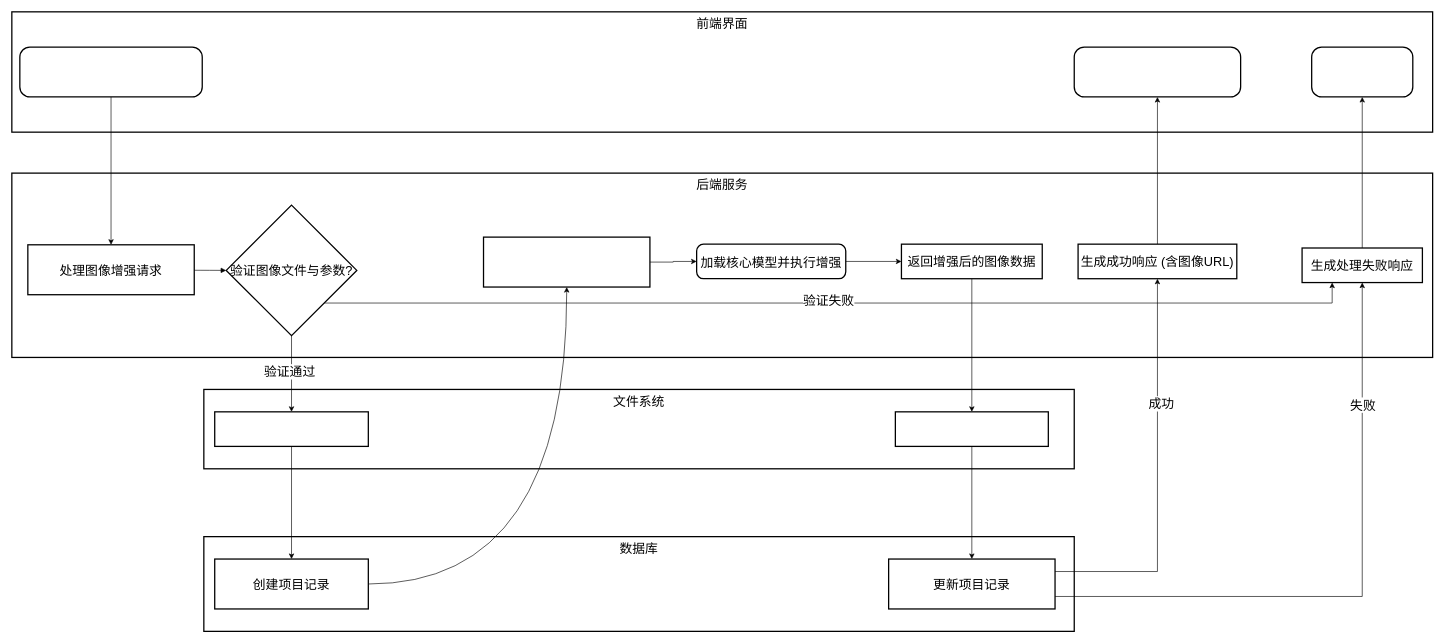
Image size: 1444x643. Some labels were removed from this diagram. The shapes that lost their labels are listed below. From the top down, each one's centre as x and y in pixels, then its label:
the point at 111,71: 接收图像/参数并发送处理请求
the point at 1157,71: 展示增强前后对比图
the point at 1362,71: 反馈处理错误信息
the point at 566,261: 调用核心增强服务
the point at 291,429: 保存原始图像至 uploads/
the point at 971,429: 保存增强图像至 outputs/
